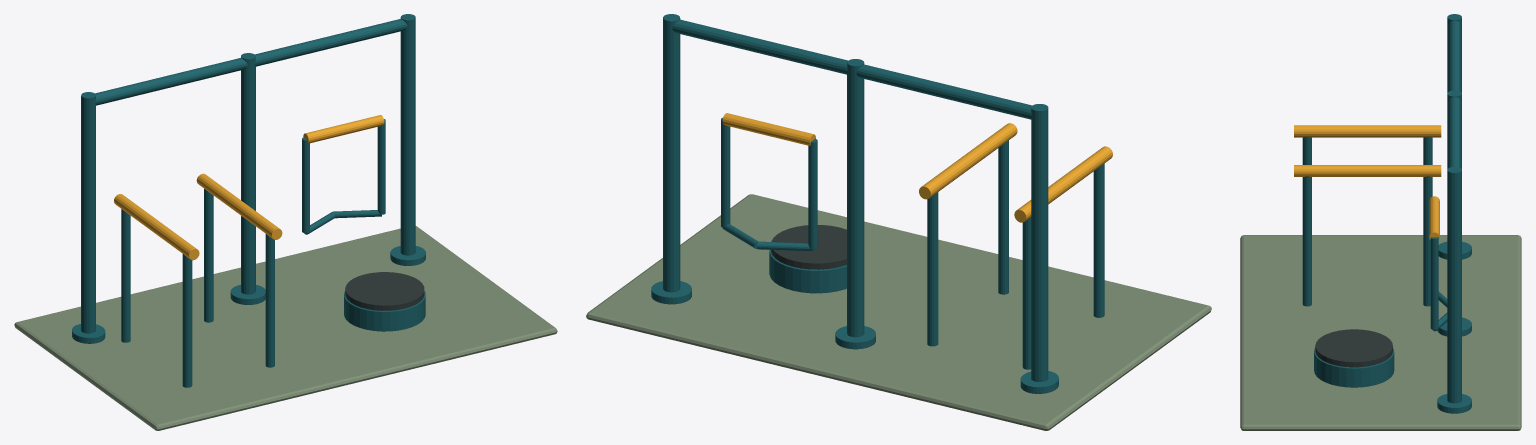
The model's file is edited.glb.
3 views of the same model, side by side, from view 1: azimuth 30°, elevation 25°; view 2: azimuth 150°, elevation 25°; view 3: azimuth 270°, elevation 25° (orthographic). The views are drawn at different scales.
Visible parts, largest first — view 1: GROUND_Pad, FRAME_UpperBar, FRAME_Post.002, FRAME_Post, FRAME_Post.001, TWIST_FootDisc, TWIST_Pedestal, PARALLEL_Leg, PARALLEL_Leg.002, PARALLEL_Leg.003, PARALLEL_Leg.001, PARALLEL_Grip.001 (+6 smaller); view 2: GROUND_Pad, FRAME_UpperBar, FRAME_Post, FRAME_Post.002, FRAME_Post.001, TWIST_FootDisc, TWIST_Pedestal, PARALLEL_Leg.003, PARALLEL_Leg, PARALLEL_Grip.001, PARALLEL_Leg.002, PARALLEL_Leg.001 (+7 smaller); view 3: GROUND_Pad, FRAME_Post.002, TWIST_FootDisc, PARALLEL_Grip, FRAME_UpperBar, PARALLEL_Grip.001, TWIST_Pedestal, PARALLEL_Leg.002, PARALLEL_Leg.003, TWIST_HandPost.001, FRAME_Base.002, TWIST_Grip (+5 smaller).
Part boxes in pixels (left/top/right/bottom): GROUND_Pad: left=14, top=226, right=557, bottom=430; FRAME_UpperBar: left=95, top=19, right=407, bottom=105; FRAME_Post.002: left=400, top=14, right=415, bottom=255; FRAME_Post: left=81, top=92, right=95, bottom=333; FRAME_Post.001: left=241, top=53, right=255, bottom=294; TWIST_FootDisc: left=345, top=272, right=424, bottom=310; TWIST_Pedestal: left=344, top=291, right=425, bottom=331; PARALLEL_Leg: left=182, top=254, right=192, bottom=387; PARALLEL_Leg.002: left=265, top=234, right=274, bottom=367; PARALLEL_Leg.003: left=204, top=188, right=213, bottom=322; PARALLEL_Leg.001: left=121, top=209, right=130, bottom=342; PARALLEL_Grip.001: left=196, top=173, right=282, bottom=239; GROUND_Pad: left=586, top=194, right=1211, bottom=430; FRAME_UpperBar: left=672, top=19, right=1031, bottom=119; FRAME_Post: left=1031, top=104, right=1048, bottom=381; FRAME_Post.002: left=663, top=14, right=680, bottom=292; FRAME_Post.001: left=847, top=59, right=864, bottom=337; TWIST_FootDisc: left=771, top=225, right=846, bottom=269; TWIST_Pedestal: left=769, top=250, right=846, bottom=293; PARALLEL_Leg.003: left=927, top=192, right=938, bottom=346; PARALLEL_Leg: left=1093, top=163, right=1104, bottom=317; PARALLEL_Grip.001: left=919, top=123, right=1017, bottom=199; PARALLEL_Leg.002: left=998, top=140, right=1008, bottom=294; PARALLEL_Leg.001: left=1022, top=217, right=1031, bottom=369; GROUND_Pad: left=1240, top=235, right=1521, bottom=430; FRAME_Post.002: left=1447, top=166, right=1461, bottom=403; TWIST_FootDisc: left=1315, top=329, right=1392, bottom=367; PARALLEL_Grip: left=1294, top=125, right=1441, bottom=137; FRAME_UpperBar: left=1448, top=20, right=1460, bottom=167; PARALLEL_Grip.001: left=1294, top=165, right=1441, bottom=176; TWIST_Pedestal: left=1314, top=348, right=1394, bottom=387; PARALLEL_Leg.002: left=1302, top=176, right=1311, bottom=306; PARALLEL_Leg.003: left=1423, top=176, right=1432, bottom=306; TWIST_HandPost.001: left=1430, top=237, right=1438, bottom=329; FRAME_Base.002: left=1437, top=394, right=1471, bottom=413; TWIST_Grip: left=1429, top=196, right=1439, bottom=239.
Bounding box in the file's own units: 3.4 × 2 × 2.1.
